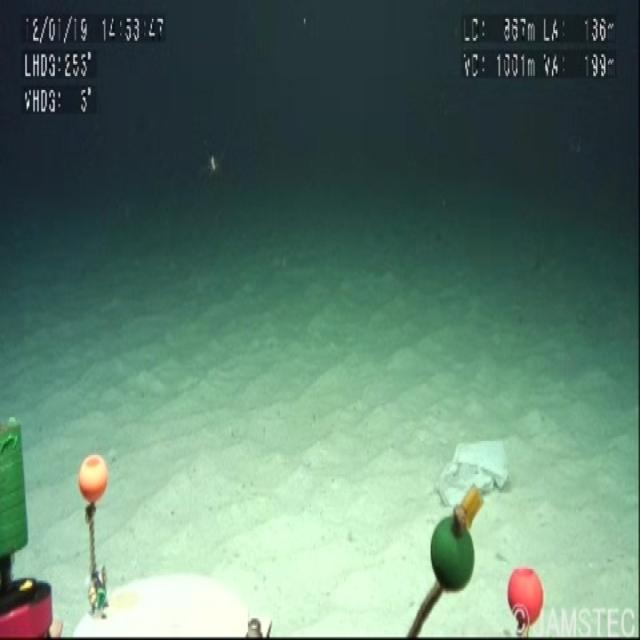Plastic: (431, 418, 524, 528)
